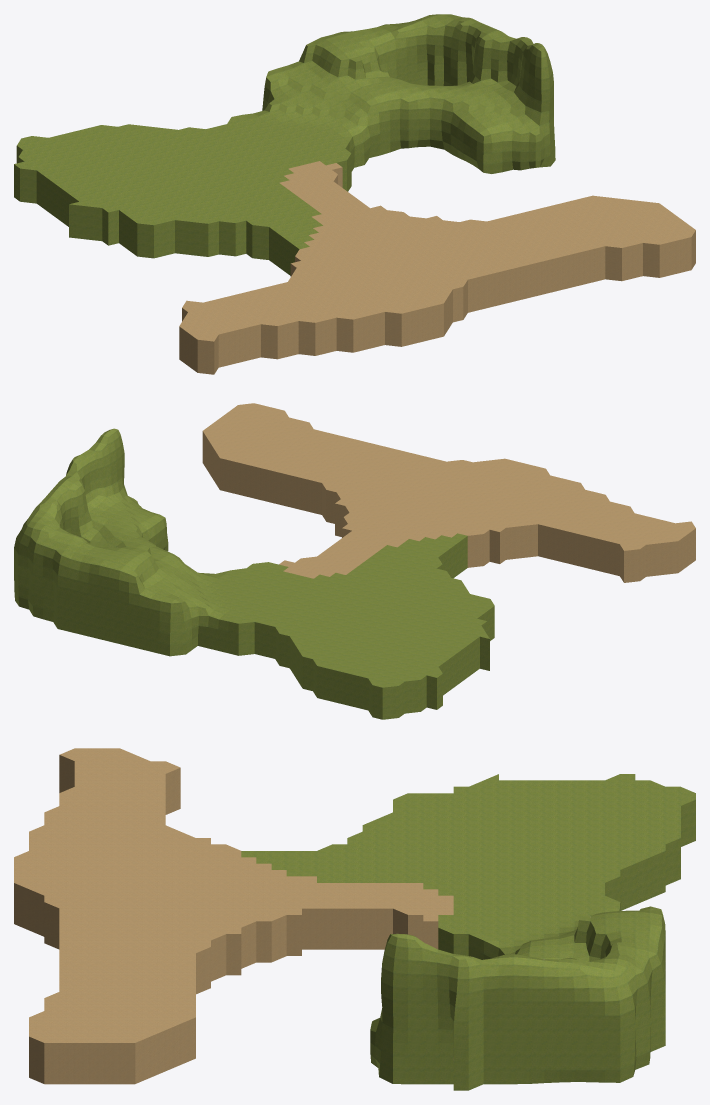
File: base_map.glb
3 views of the same model, one above another, from view 1: azimuth 30°, elevation 25°; view 2: azimuth 150°, elevation 25°; view 3: azimuth 270°, elevation 25° (orthographic). The views are drawn at different scales.
Visible parts, largest first — view 1: Grid.003; view 2: Grid.003; view 3: Grid.003.
Part boxes in pixels (box(x1,y1,x2,y2)): Grid.003: box(14, 14, 695, 374); Grid.003: box(14, 403, 695, 719); Grid.003: box(14, 748, 695, 1090).
Bounding box in the file's own units: 188 × 41.62 × 180.
Materials: 1 (1 with a texture image).
